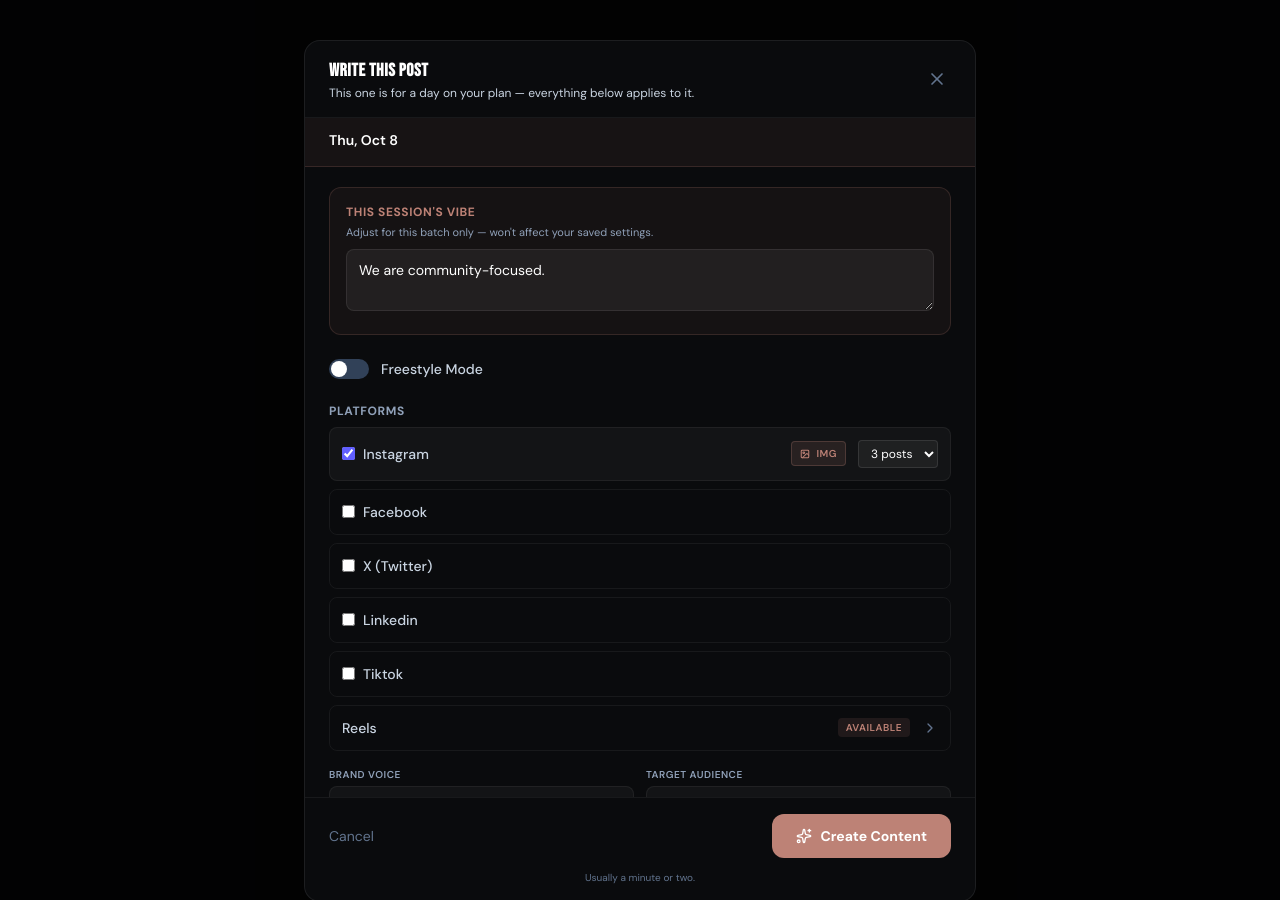
Test: slot run: the outcome reaches the modal › a delivered run offers the post and states the plan day
What coordinates should you click on to do the following:
click the button "Create Content"
I would click on:
 (862, 836)
Its box is [772,814,951,858].
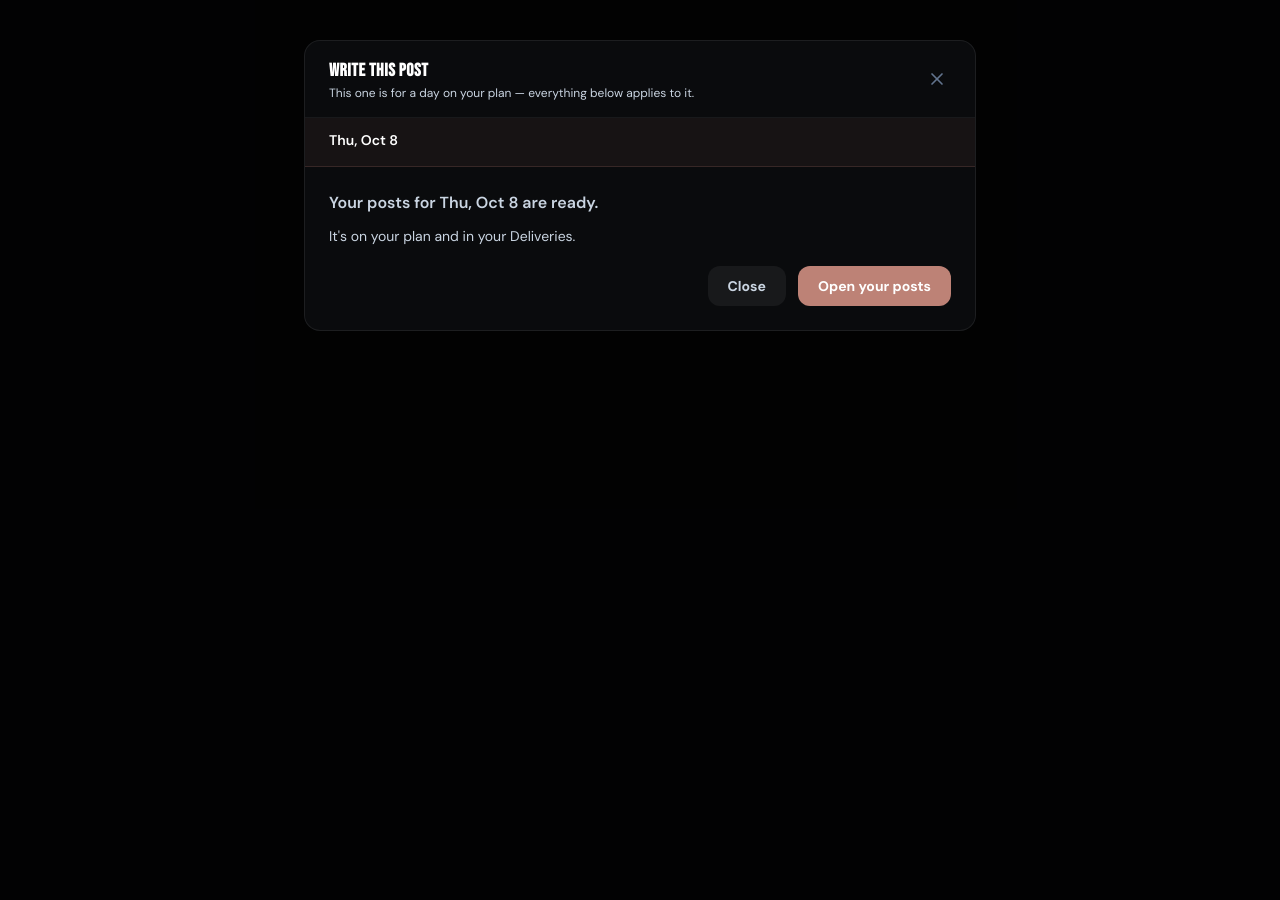
Result: the heading "Your posts for Thu, Oct 8 are ready." is shown at [329,192,598,213]
Result: the text "It's on your plan and in your Deliveries." is shown at [329,227,575,245]
Result: the button "Open your posts" is shown at [798,266,951,306]
